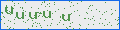u: (5, 6, 13, 15), (16, 12, 24, 20), (29, 12, 37, 20), (43, 11, 51, 19), (62, 14, 70, 22)
